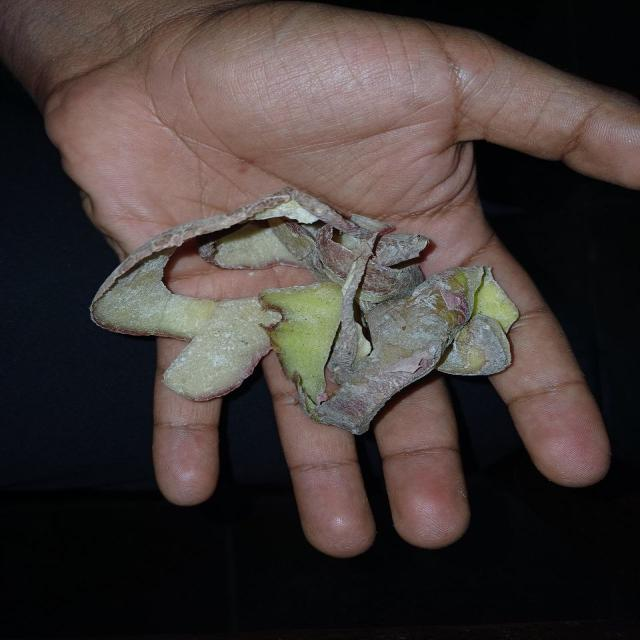organic: (90, 185, 522, 436)
